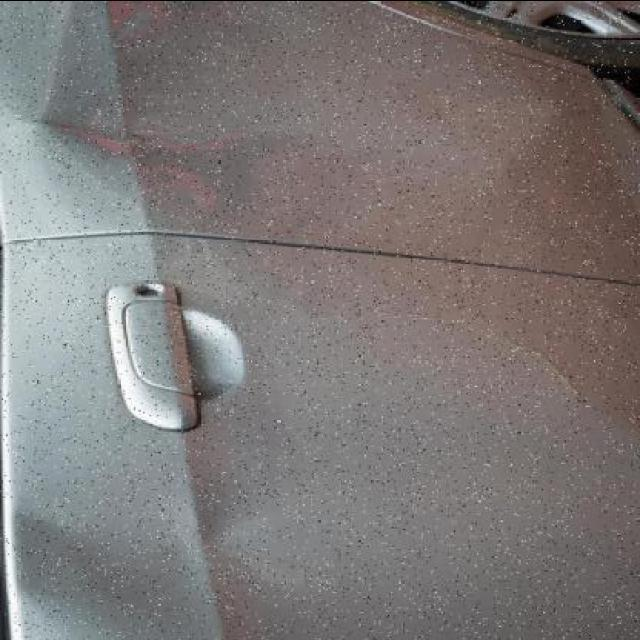doorouter-dent: (7, 240, 639, 640), (7, 1, 639, 240)
